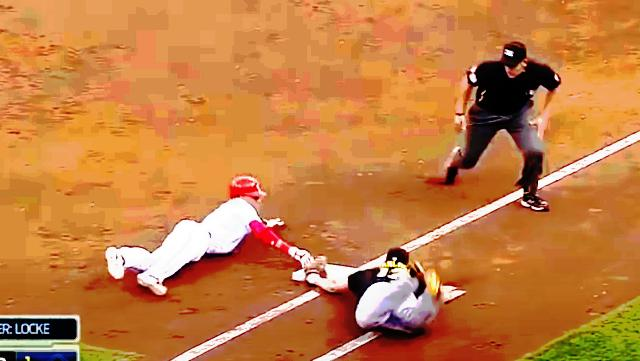jatuh: (102, 171, 310, 303), (300, 244, 450, 344)
